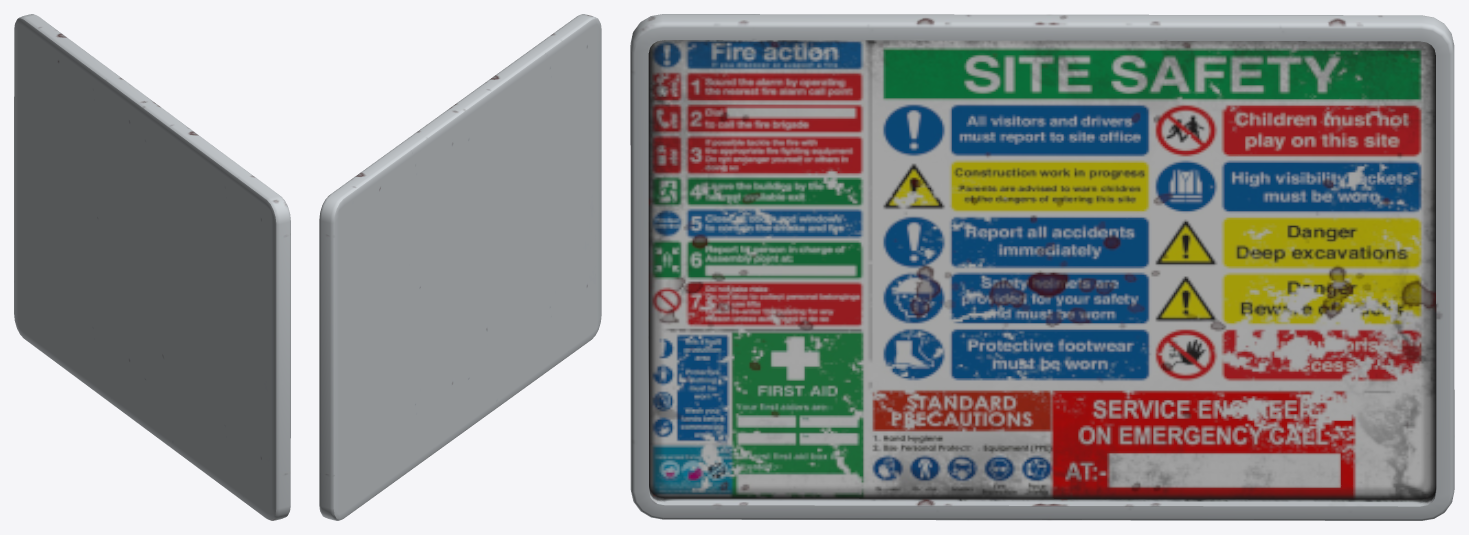
The model's file is safety.glb.
The picture shows the model from 3 angles, left to right: view 1: azimuth 30°, elevation 25°; view 2: azimuth 150°, elevation 25°; view 3: azimuth 270°, elevation 25°; orthographic projection. The views are drawn at different scales.
Parts seen in each view (by area): view 1: defaultMaterial; view 2: defaultMaterial; view 3: defaultMaterial.
Part boxes in pixels (<box>): defaultMaterial: <box>14,14,290,520</box>; defaultMaterial: <box>319,14,601,520</box>; defaultMaterial: <box>630,14,1454,520</box>.
Size of the model in its own units: 0.0579 by 1 by 1.5.
1 material, 1 textured.
